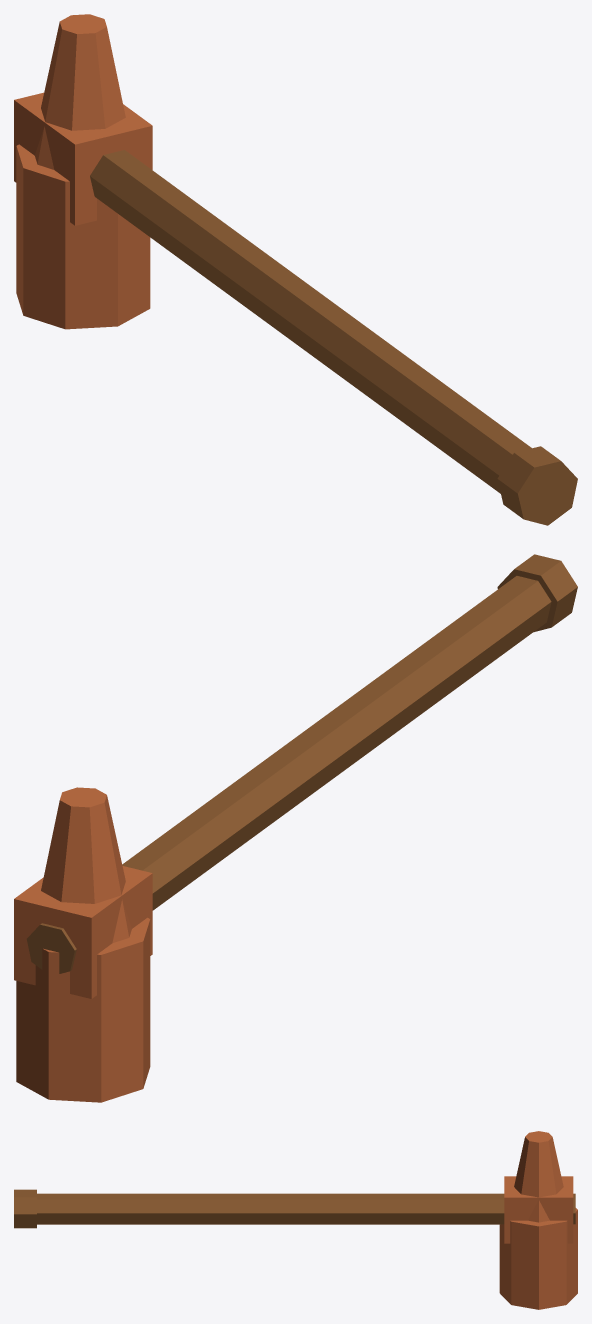
Rendered from Tool_Hammer_Copper.fbx.
3 renders of one model, top to bottom at view 1: azimuth 30°, elevation 25°; view 2: azimuth 150°, elevation 25°; view 3: azimuth 270°, elevation 25°, orthographic. The views are drawn at different scales.
Parts seen in each view (by area): view 1: Tool_Hammer_Copper; view 2: Tool_Hammer_Copper; view 3: Tool_Hammer_Copper.
Part boxes in pixels (bbox=[...]): Tool_Hammer_Copper: bbox=[14, 14, 577, 525]; Tool_Hammer_Copper: bbox=[14, 554, 577, 1102]; Tool_Hammer_Copper: bbox=[14, 1131, 577, 1309].
Size of the model in its own units: 0.034 by 0.075 by 0.245.
